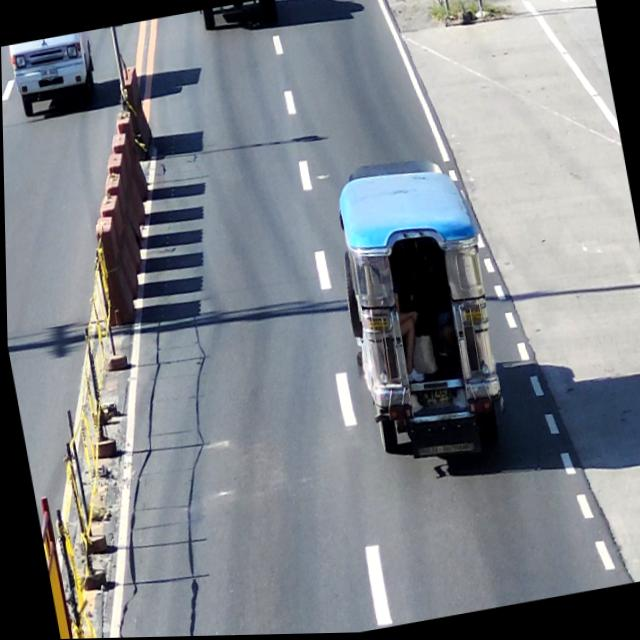Jeep: (328, 155, 515, 468)
License-Plate: (415, 382, 457, 413), (36, 62, 62, 84)
Truck: (7, 31, 100, 121)
